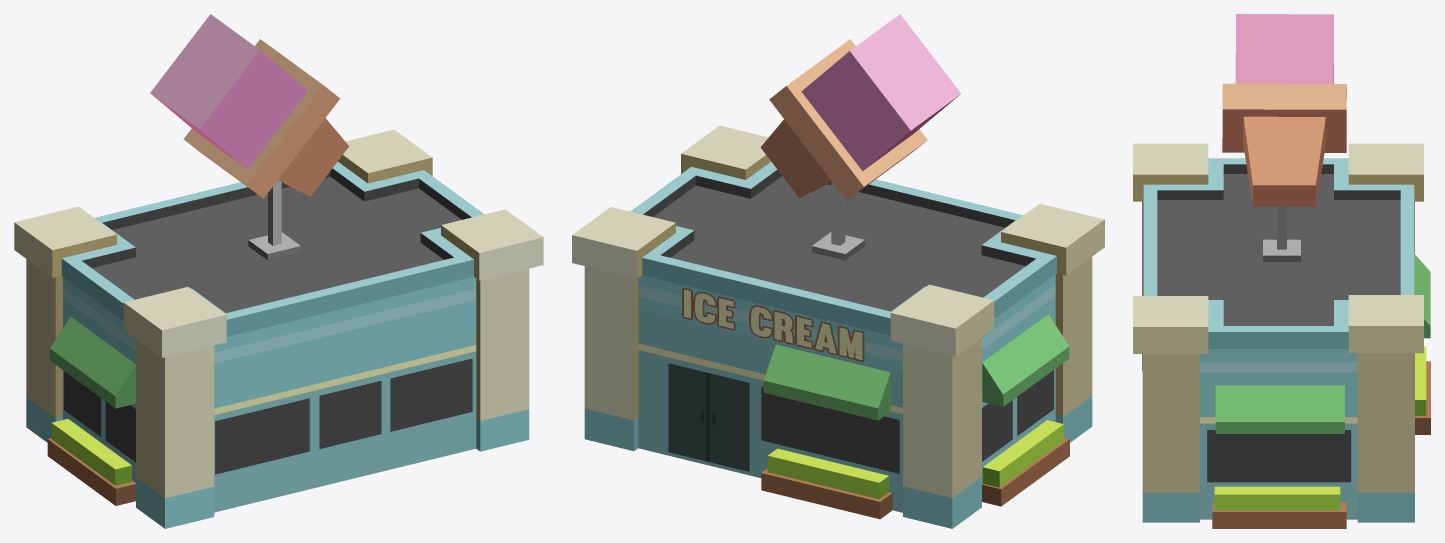
The model's file is BLD1210010.fbx.
3 views of the same model, side by side, from view 1: azimuth 30°, elevation 25°; view 2: azimuth 150°, elevation 25°; view 3: azimuth 270°, elevation 25° (orthographic). The views are drawn at different scales.
Visible parts, largest first — view 1: smBLD1210010; view 2: smBLD1210010; view 3: smBLD1210010.
Boxes of the visible parts, box(x1,y1,x2,y2) form: smBLD1210010: box(14, 14, 543, 528); smBLD1210010: box(572, 14, 1104, 528); smBLD1210010: box(1133, 14, 1430, 528).
Size of the model in its own units: 1271 by 1266 by 849.
Materials: 1 (1 with a texture image).
